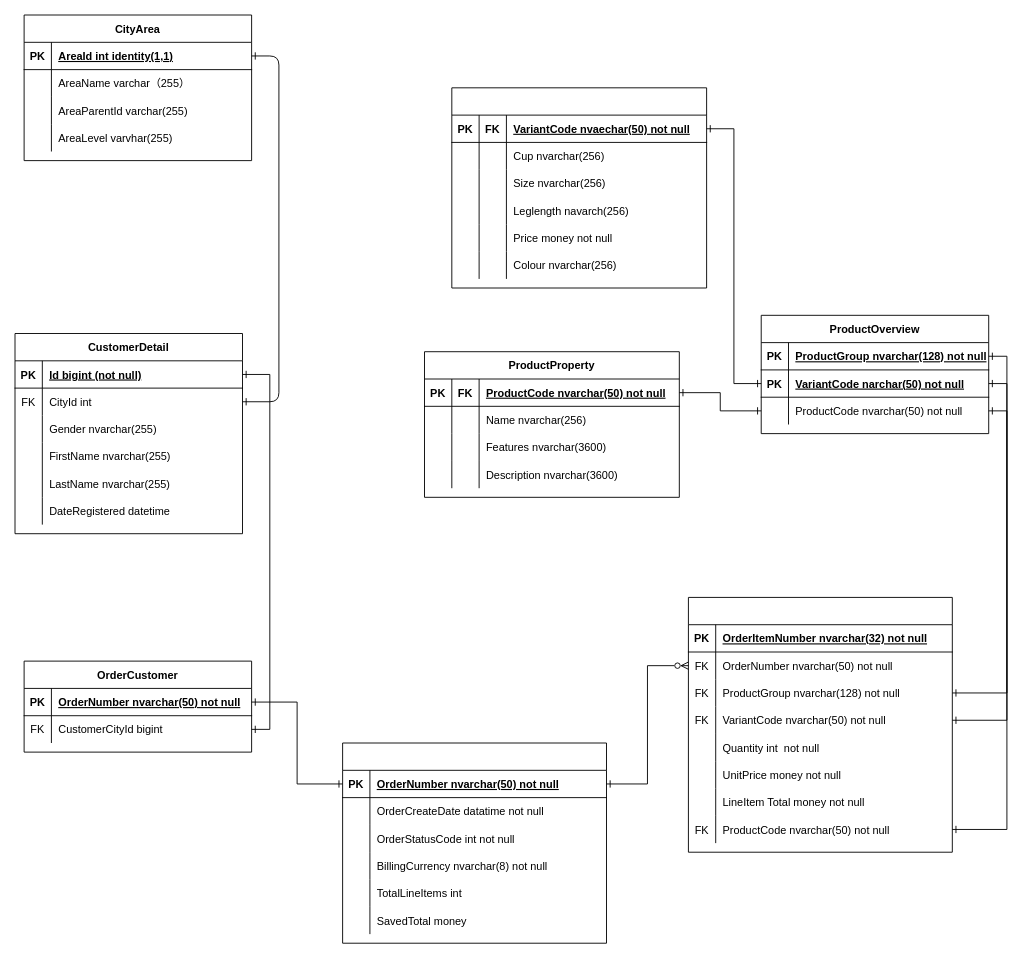
Some shapes in this 1022 by 958 pixel diagram are drawn without their labels. The shapes that lost their labels are listed below. From the top down, each one's box as (x1, y1, x2, y2) in pixels, then its label:
(451, 87, 707, 288): VariantProperty
(688, 597, 952, 852): OrderIteamDetail
(342, 742, 607, 943): OrderGroup
